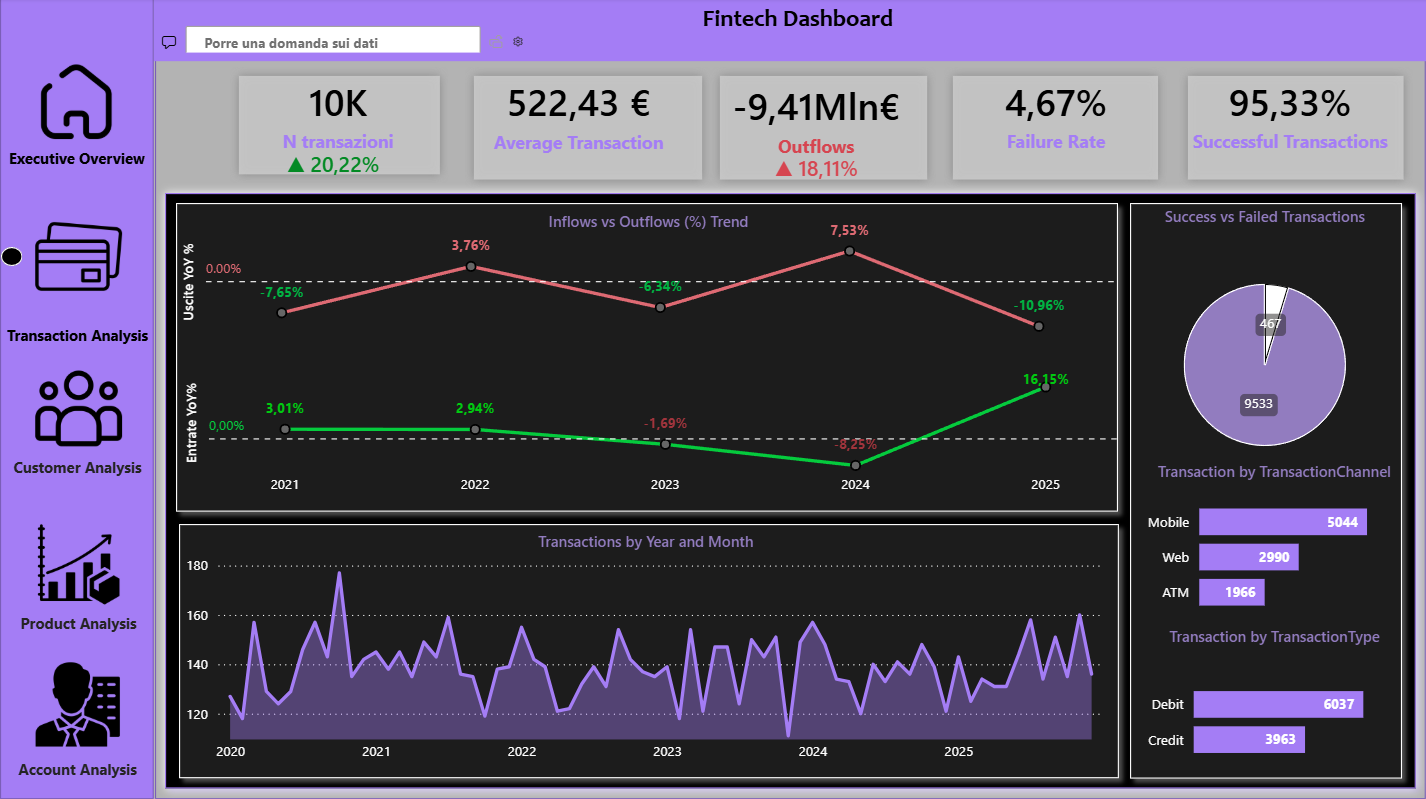

This screenshot's page, from the dashboard's own definition file:
{"tool":"powerbi","page":{"name":"Transaction Analysis","canvas":[1280,720],"ordinal":1},"visuals":[{"type":"shape","box":[139.1,0,1140.9,719.2],"z":0},{"type":"shape","box":[0,0,138.1,719.2],"z":1000},{"type":"shape","box":[206.8,62,196.4,104.3],"z":1500},{"type":"shape","box":[138.1,0,1141.9,56.7],"z":2000},{"type":"card","fields":{"Values":["Misure.N transazioni"]},"box":[203.7,49.6,199.4,108.7],"z":3000},{"type":"shape","box":[417.3,62,220.9,109],"z":3500},{"type":"shape","box":[1058.2,62,209.6,109],"z":3625},{"type":"shape","box":[638.1,62,202.1,109],"z":3750},{"type":"card","fields":{"Values":["Misure.% transazioni riuscite"]},"box":[1058.4,49.6,199.4,108.7],"z":4000},{"type":"card","fields":{"Values":["Misure.uscite negative"]},"box":[631.5,67.7,203,80.8],"z":5000},{"type":"shape","box":[847.7,62,200.2,109],"z":5500},{"type":"card","fields":{"Values":["Misure.valore medio transazione"]},"box":[413.1,49.2,213,109.2],"z":6000},{"type":"card","fields":{"Values":["Misure.% transazioni fallite"]},"box":[848.4,49.6,199.4,108.7],"z":7000},{"type":"shape","box":[139.1,166.3,1140.9,552.6],"z":8000},{"type":"textbox","box":[619.7,0,193.7,49.2],"z":11000},{"type":"shape","box":[149.4,174.8,863.7,295.1],"z":11500},{"type":"qnaVisual","box":[135.9,0,344.6,49.2],"z":12000},{"type":"shape","box":[1.1,223.7,19.3,17.1],"z":13000},{"type":"textbox","box":[0,130.6,138.1,35.3],"z":14000},{"type":"textbox","box":[0,289,139.1,31],"z":15000},{"type":"textbox","box":[0,407.8,139.1,31],"z":16000},{"type":"image","box":[35.3,55.7,67.4,74.9],"z":17000},{"type":"image","box":[30,329.6,81.3,78.1],"z":18000},{"type":"image","box":[30,469.8,81.3,78.1],"z":19000},{"type":"image","box":[28.9,595.1,81.3,78.1],"z":20000},{"type":"image","box":[30,192.6,81.3,78.1],"z":21000},{"type":"card","fields":{"Values":["Misure.Uscite YoY KPI"]},"box":[687.9,137.2,90.2,33.8],"z":22000},{"type":"card","fields":{"Values":["Misure.Transazioni KPI"]},"box":[248.3,130.6,100.6,40.7],"z":23000},{"type":"shape","box":[151.3,463.3,861.8,246.2],"z":23500},{"type":"lineStackedColumnComboChart","fields":{"Category":["calendario.Date.Variazione.Gerarchia data.Anno"],"Y2":["Misure.Uscite YoY %"]},"box":[158.8,186.1,846.8,129.7],"z":24000},{"type":"shape","box":[1005.6,174.8,262.2,534.7],"z":24500},{"type":"lineStackedColumnComboChart","fields":{"Category":["calendario.Date.Variazione.Gerarchia data.Anno"],"Y2":["Misure.Entrate YoY%"]},"box":[161.6,324.2,850.5,130.6],"z":25000},{"type":"lineChart","title":"Transactions by Year and Month","fields":{"Y":["Misure.N transazioni"],"Category":["calendario.Date.Variazione.Gerarchia data.Anno","calendario.Date.Variazione.Gerarchia data.Mese"]},"box":[161.6,478.4,836.4,216.2],"z":26000},{"type":"clusteredBarChart","title":" Transaction by TransactionType","fields":{"Y":["Misure.N transazioni"],"Category":["FactTransaction.TransactionType"]},"box":[1022.1,564,245.1,148.8],"z":27000},{"type":"pieChart","title":"Success vs Failed Transactions","fields":{"Y":["Misure.N transazioniFallite","Misure.N transazioniSucces"]},"box":[1014.7,186.3,242.1,268.4],"z":28000},{"type":"textbox","box":[1.1,548,139.1,31],"z":29000},{"type":"textbox","box":[0,678.5,139.1,31],"z":30000},{"type":"clusteredBarChart","title":" Transaction by TransactionChannel","fields":{"Y":["Misure.N transazioni"],"Category":["FactTransaction.TransactionChannel"]},"box":[1022.1,415.3,245.1,148.8],"z":32000},{"type":"textbox","box":[487.5,186.7,251.4,26.9],"z":32001}]}

Visuals, with their boxes on the page's 1280x720 design canvas (x1, y1, x2, y2). These are canvas units, not pixel positions in the 1426x799 screenshot, which may show the page scaled, cropped or inside an application window:
shape: detection(139, 0, 1280, 719)
shape: detection(0, 0, 138, 719)
shape: detection(207, 62, 403, 166)
shape: detection(138, 0, 1280, 57)
card - Misure.N transazioni: detection(204, 50, 403, 158)
shape: detection(417, 62, 638, 171)
shape: detection(1058, 62, 1268, 171)
shape: detection(638, 62, 840, 171)
card - Misure.% transazioni riuscite: detection(1058, 50, 1258, 158)
card - Misure.uscite negative: detection(632, 68, 834, 148)
shape: detection(848, 62, 1048, 171)
card - Misure.valore medio transazione: detection(413, 49, 626, 158)
card - Misure.% transazioni fallite: detection(848, 50, 1048, 158)
shape: detection(139, 166, 1280, 719)
textbox: detection(620, 0, 813, 49)
shape: detection(149, 175, 1013, 470)
qnaVisual: detection(136, 0, 480, 49)
shape: detection(1, 224, 20, 241)
textbox: detection(0, 131, 138, 166)
textbox: detection(0, 289, 139, 320)
textbox: detection(0, 408, 139, 439)
image: detection(35, 56, 103, 131)
image: detection(30, 330, 111, 408)
image: detection(30, 470, 111, 548)
image: detection(29, 595, 110, 673)
image: detection(30, 193, 111, 271)
card - Misure.Uscite YoY KPI: detection(688, 137, 778, 171)
card - Misure.Transazioni KPI: detection(248, 131, 349, 171)
shape: detection(151, 463, 1013, 710)
lineStackedColumnComboChart - calendario.Date.Variazione.Gerarchia data.Anno x Misure.Uscite YoY %: detection(159, 186, 1006, 316)
shape: detection(1006, 175, 1268, 710)
lineStackedColumnComboChart - calendario.Date.Variazione.Gerarchia data.Anno x Misure.Entrate YoY%: detection(162, 324, 1012, 455)
"Transactions by Year and Month" lineChart: detection(162, 478, 998, 695)
" Transaction by TransactionType" clusteredBarChart: detection(1022, 564, 1267, 713)
"Success vs Failed Transactions" pieChart: detection(1015, 186, 1257, 455)
textbox: detection(1, 548, 140, 579)
textbox: detection(0, 678, 139, 710)
" Transaction by TransactionChannel" clusteredBarChart: detection(1022, 415, 1267, 564)
textbox: detection(488, 187, 739, 214)
